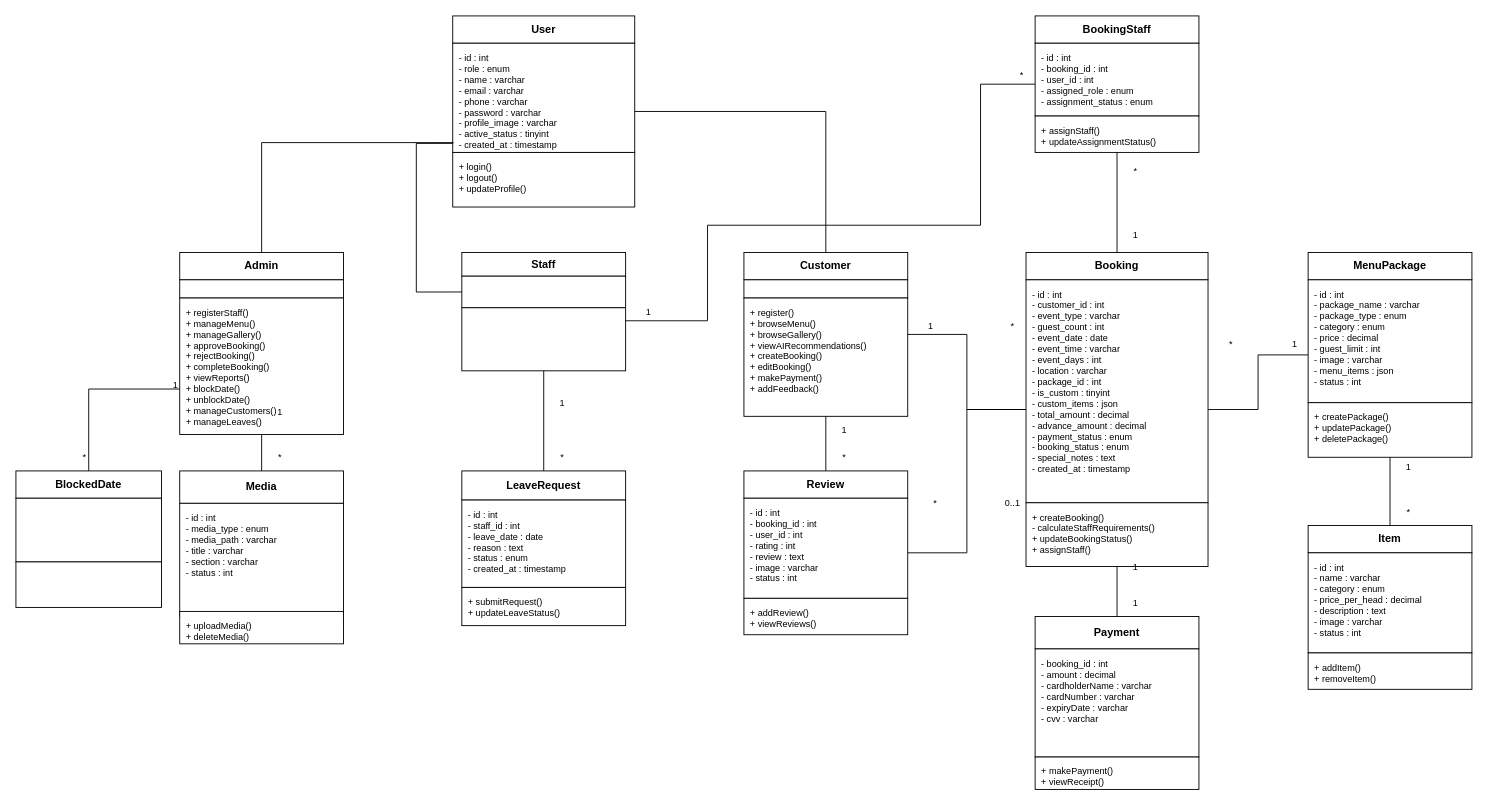
This 1488x805 diagram has some shape labels left out. The shapes that lost their labels are listed below. From the top down, each one's box as (x1, y1, x2, y2) in pixels, then its label:
(461, 275, 626, 308): - availability_status : int
(461, 307, 626, 371): + viewAssignments() + updateTaskStatus() + submitLeaveRequest()
(15, 497, 162, 562): - id : int - blocked_date : date - reason : varchar - created_at : timestamp
(15, 561, 162, 607): + addBlockedDate() + removeBlockedDate()
